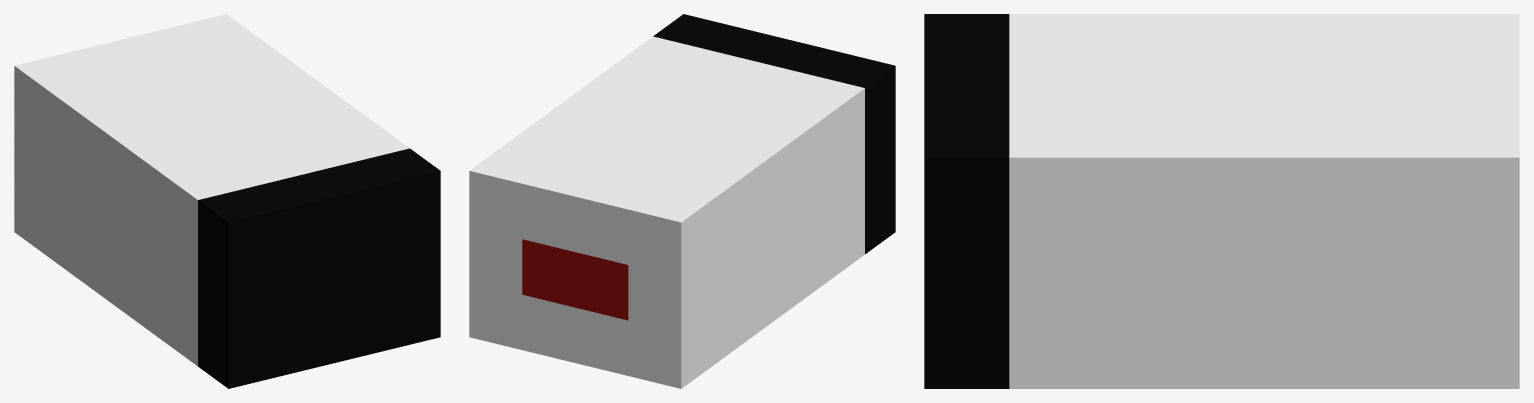
Rendered from luncher.gltf.
The picture shows the model from 3 angles, left to right: view 1: azimuth 30°, elevation 25°; view 2: azimuth 150°, elevation 25°; view 3: azimuth 270°, elevation 25°; orthographic projection. The views are drawn at different scales.
Visible parts, largest first — view 1: Layer.1; view 2: Layer.1; view 3: Layer.1.
Boxes of the visible parts, x1,y1,x2,y2 form: Layer.1: (14,14,440,388); Layer.1: (469,14,895,388); Layer.1: (924,14,1519,388).
Bounding box in the file's own units: 4 × 3 × 7.
Materials: 1 (1 with a texture image).
